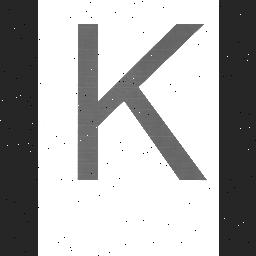k: (70, 16, 218, 188)
